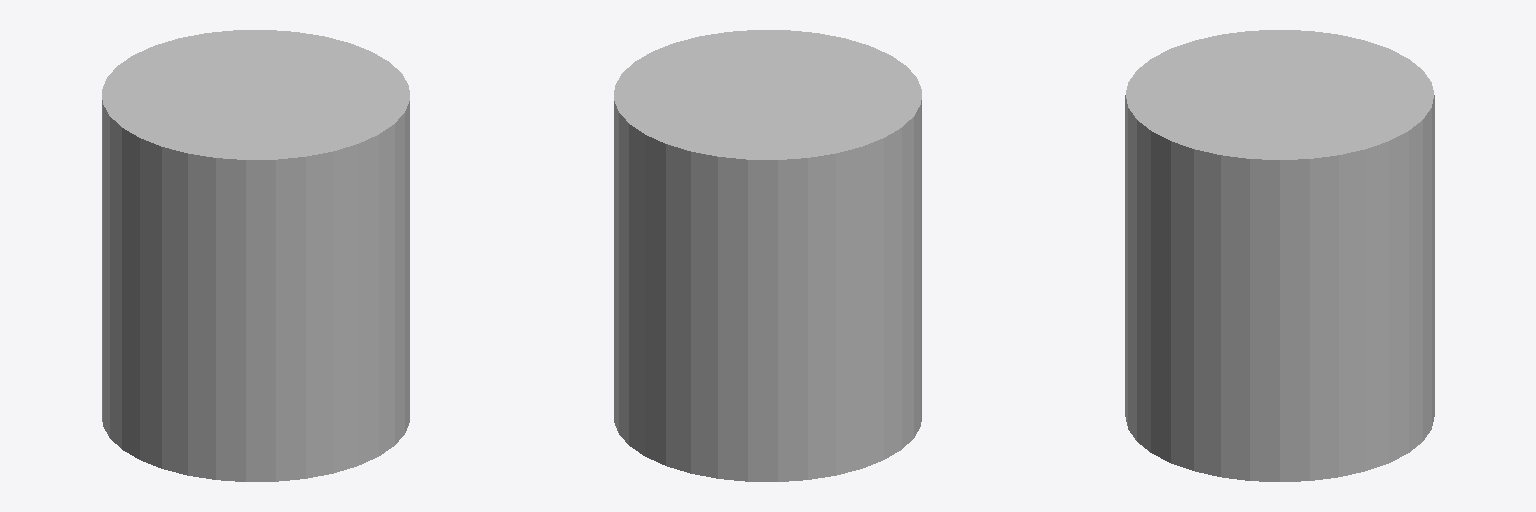
Rendered from tree stump 3.obj.
The picture shows the model from 3 angles: view 1: azimuth 30°, elevation 25°; view 2: azimuth 150°, elevation 25°; view 3: azimuth 270°, elevation 25°; orthographic projection.
Visible parts, largest first — view 1: Cylinder; view 2: Cylinder; view 3: Cylinder.
Boxes of the visible parts, <box> form: Cylinder: <box>102,30,409,481</box>; Cylinder: <box>614,30,921,481</box>; Cylinder: <box>1125,30,1434,481</box>.
Bounding box in the file's own units: 2 × 2.3 × 2.